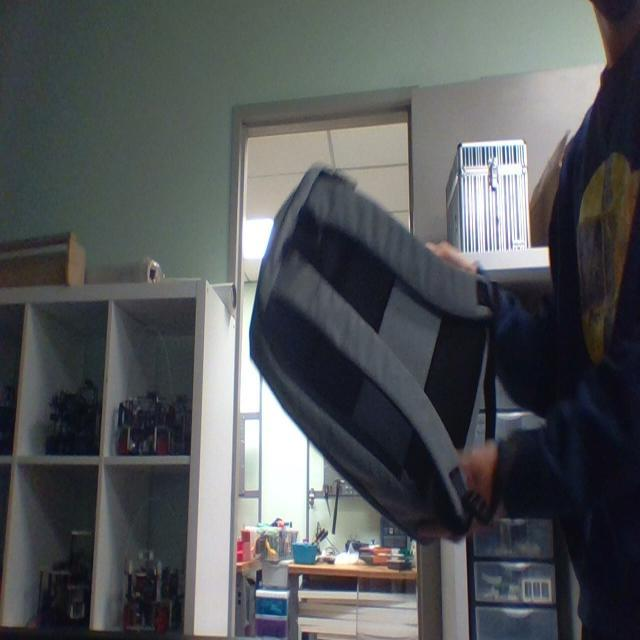Backpacks: (246, 160, 494, 548)
